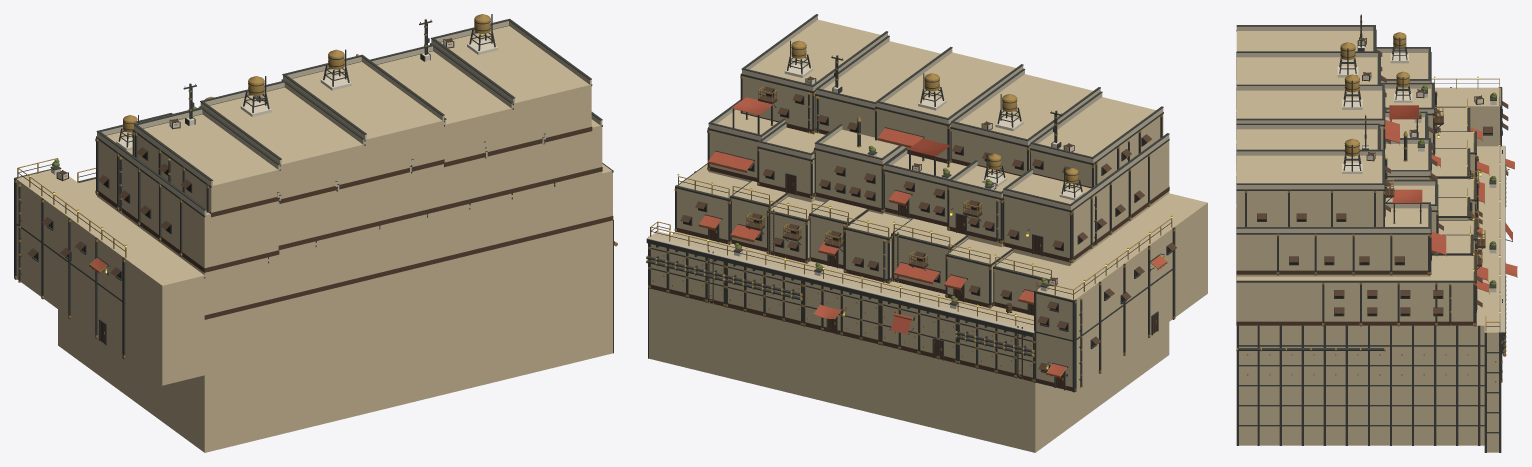
File: terrace_east.glb
3 views of the same model, side by side, from view 1: azimuth 30°, elevation 25°; view 2: azimuth 150°, elevation 25°; view 3: azimuth 270°, elevation 25° (orthographic). The views are drawn at different scales.
Parts seen in each view (by area): view 1: terrace_east; view 2: terrace_east; view 3: terrace_east.
Part boxes in pixels (x1=…): terrace_east: x1=14, y1=14, x2=617, y2=452; terrace_east: x1=646, y1=14, x2=1207, y2=452; terrace_east: x1=1236, y1=14, x2=1517, y2=452.
Size of the model in its own units: 44.96 by 27.9 by 25.55.
